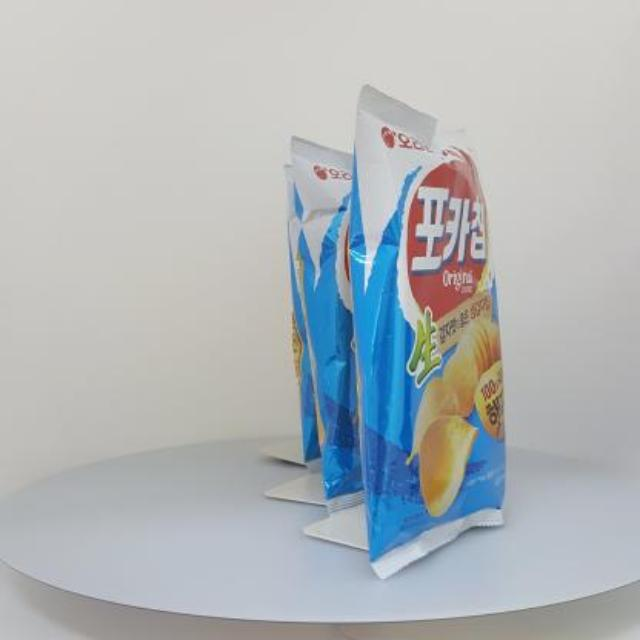snack_bag: (263, 57, 569, 598)
